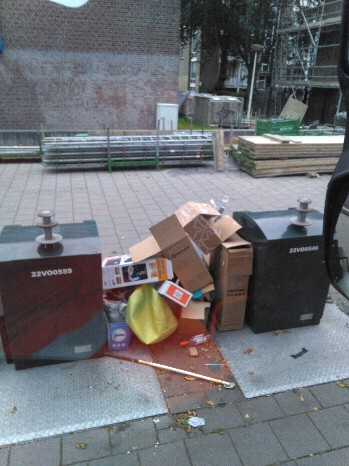Container: (3, 231, 94, 370), (249, 205, 330, 336)
Papier: (157, 205, 225, 272), (205, 209, 237, 338), (123, 251, 170, 291)
Rest: (111, 292, 173, 344)
